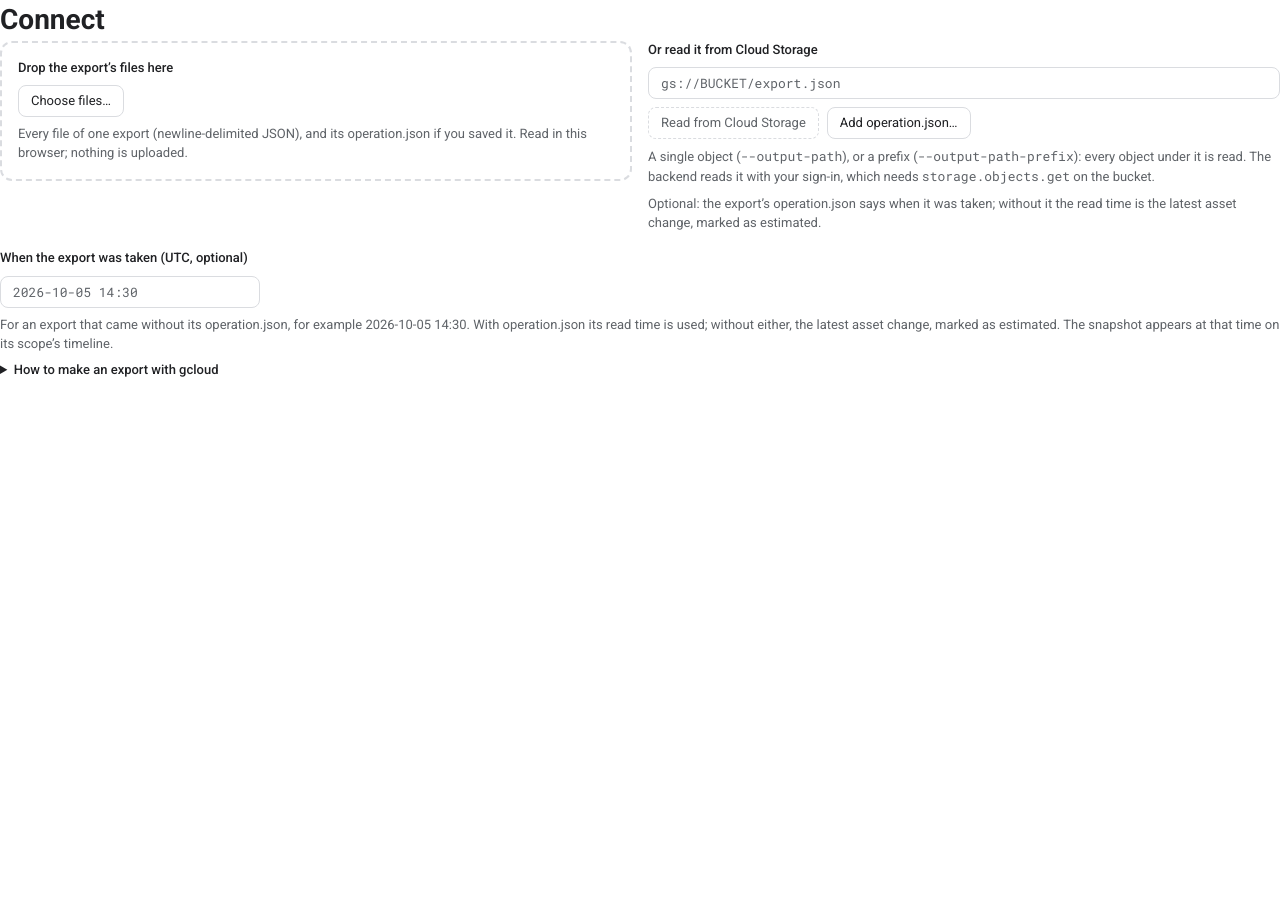
Scenario: Load export › asks while a Cloud Storage read passes 10 000 assets; Cancel stops reading it
Type "gs://demo-exports/export.json" into the field labelled "Or read it from Cloud Storage" at {"x": 964, "y": 83}, box top-left (648, 67), bottom-right (1279, 99)
Then press Enter
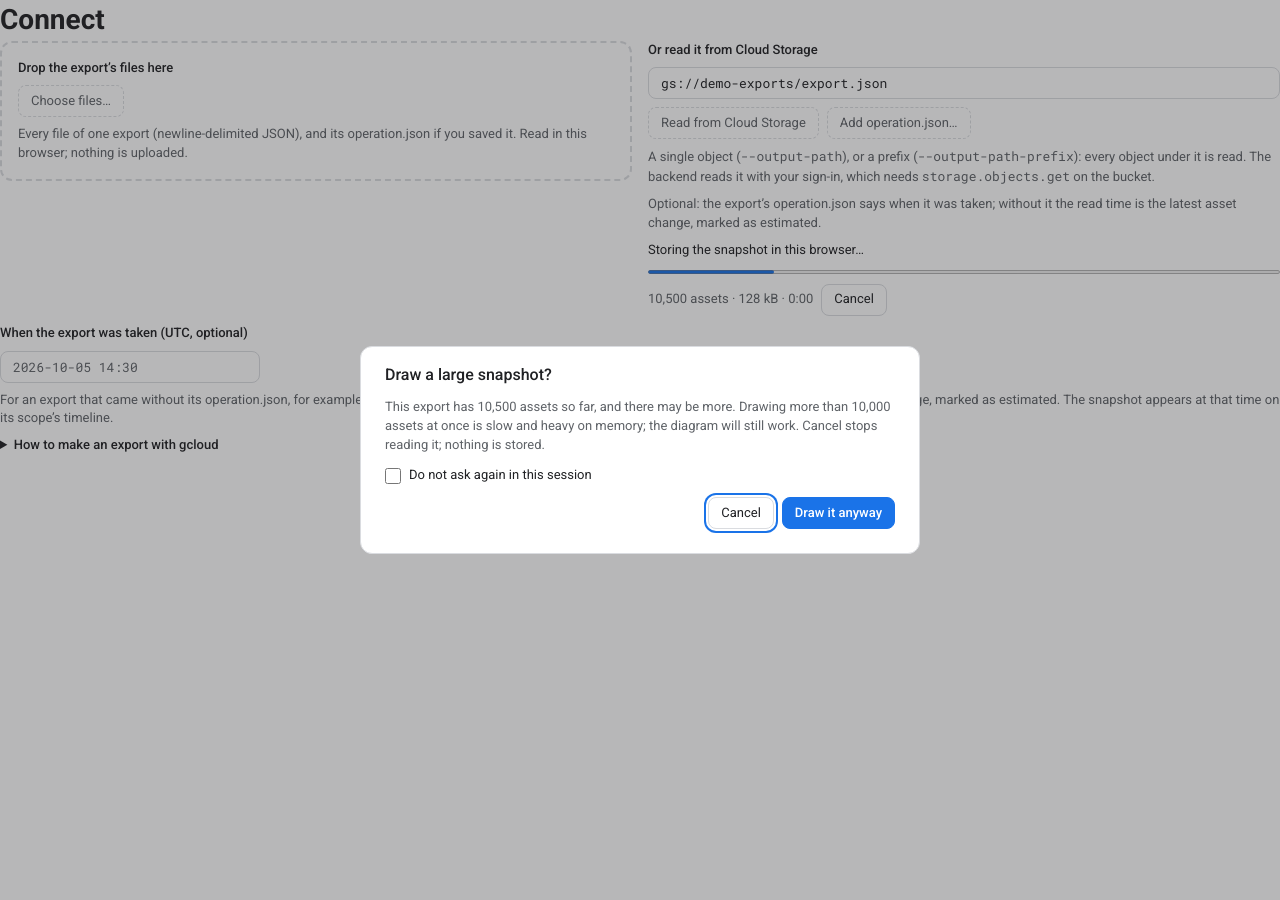
Click the button "Cancel" at {"x": 741, "y": 513}, box top-left (708, 497), bottom-right (774, 529)
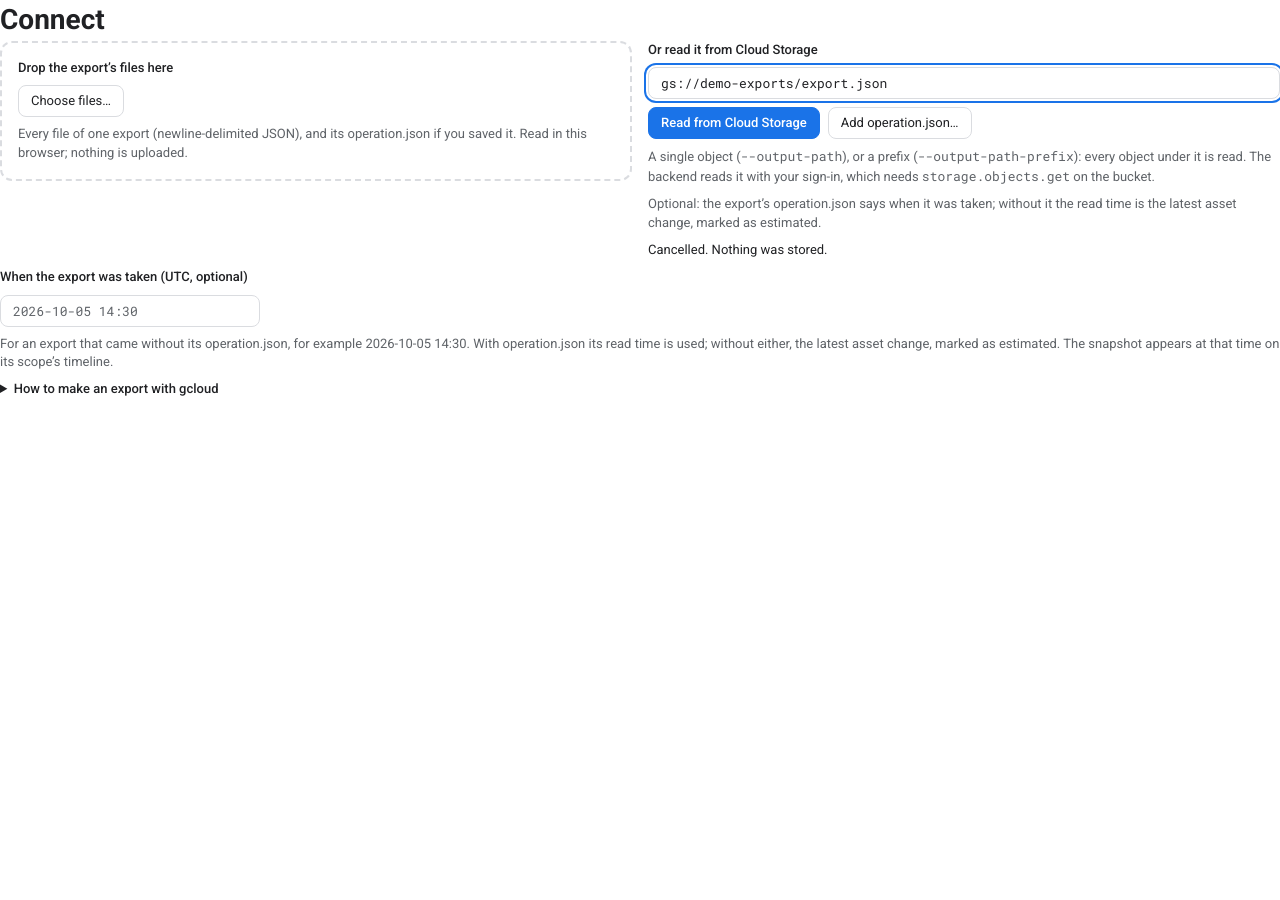
Now the message reads "Cancelled. Nothing was stored.", box top-left (648, 242), bottom-right (828, 257)
